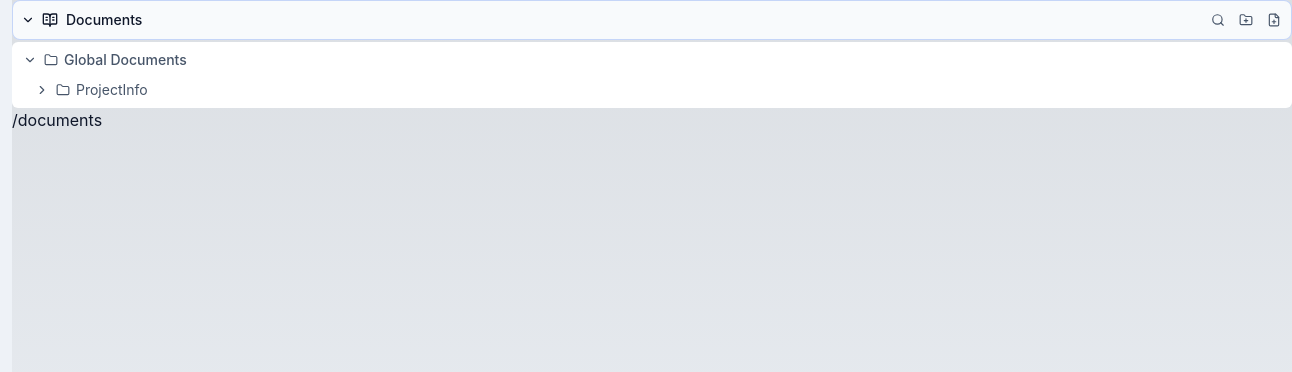
Test: DocumentsSidebarSection › navigates to the folder view when a folder name is clicked, keeping the chevron for toggling
The folder name is its own button (distinct from the Expand chevron).
Click the button "ProjectInfo" at [112, 90], box [56, 80, 1236, 100]
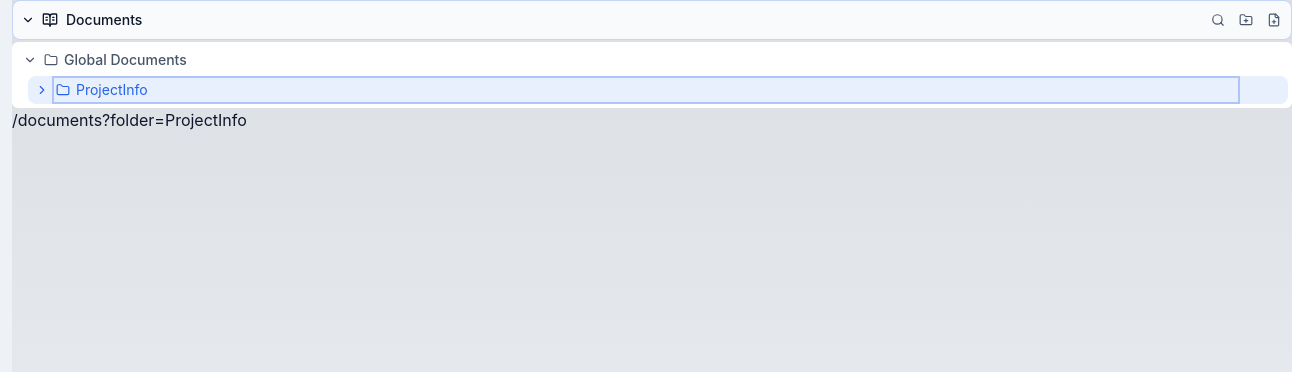
Expected: the button named "Expand ProjectInfo" is shown, [32, 80, 52, 100]
Expected: the text with test id "location-probe" reads "/documents?folder=ProjectInfo", [12, 110, 247, 130]
